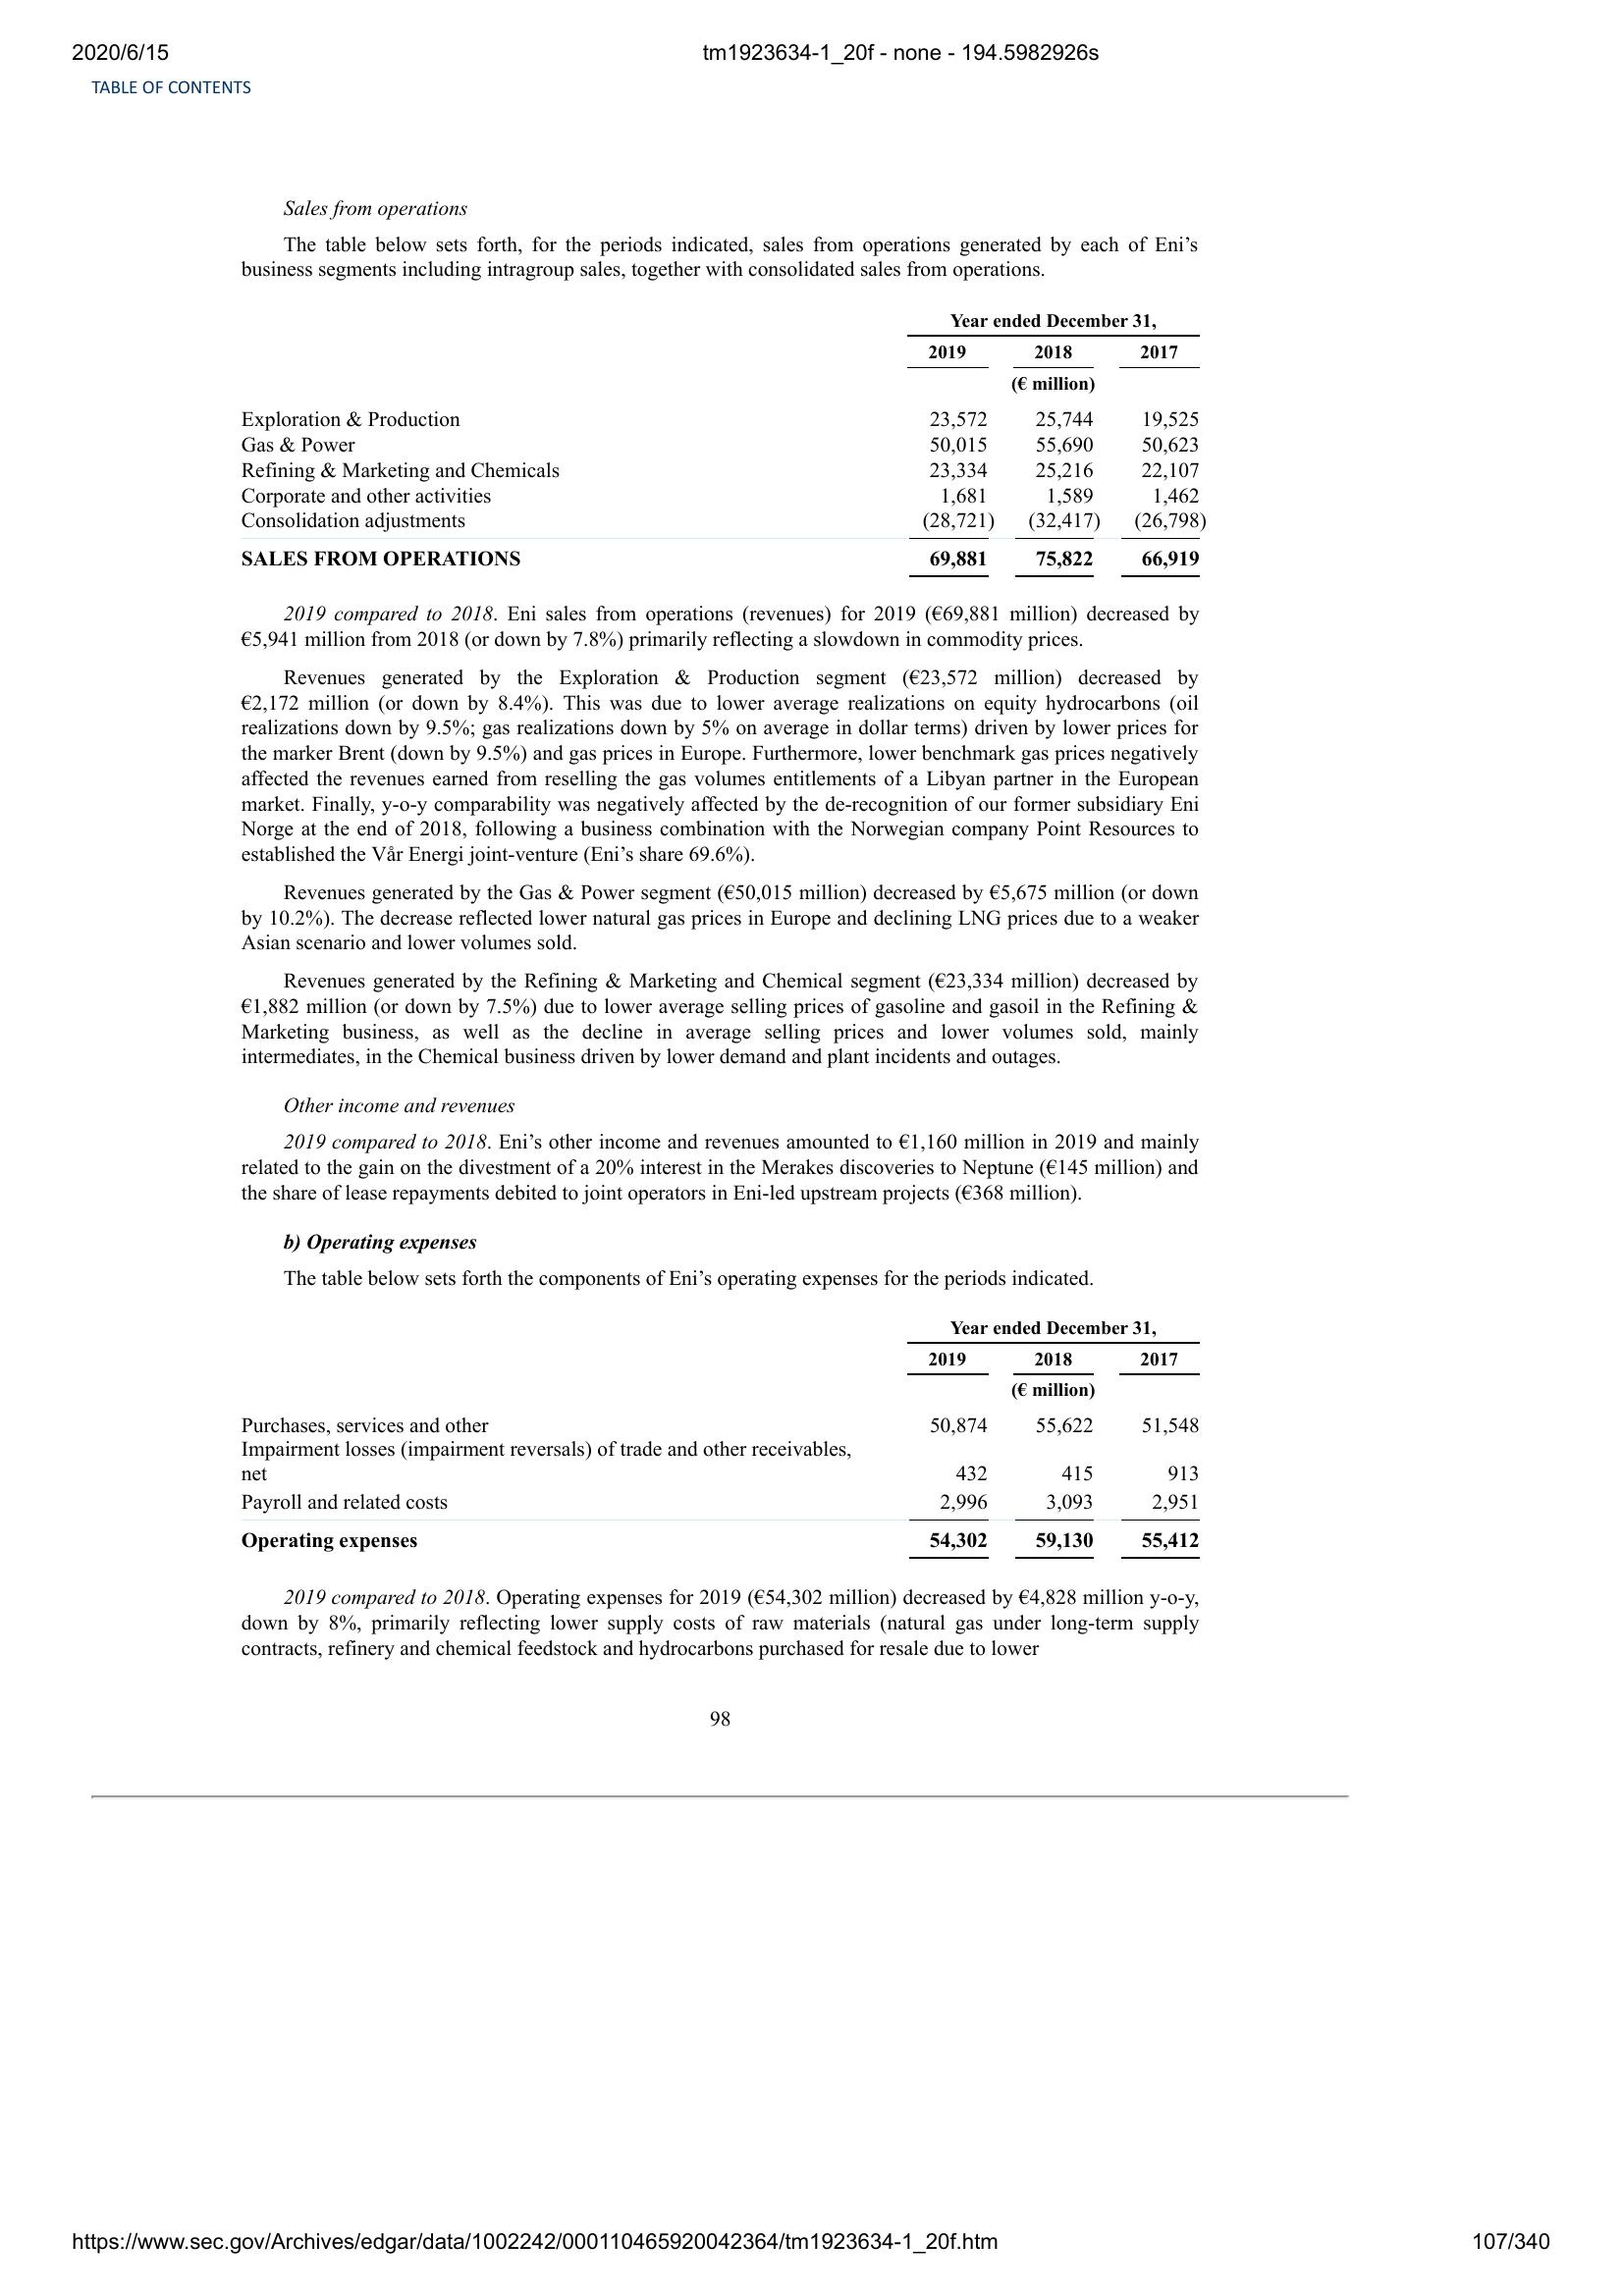table: (235, 305, 1212, 590), (237, 1315, 1210, 1569)
